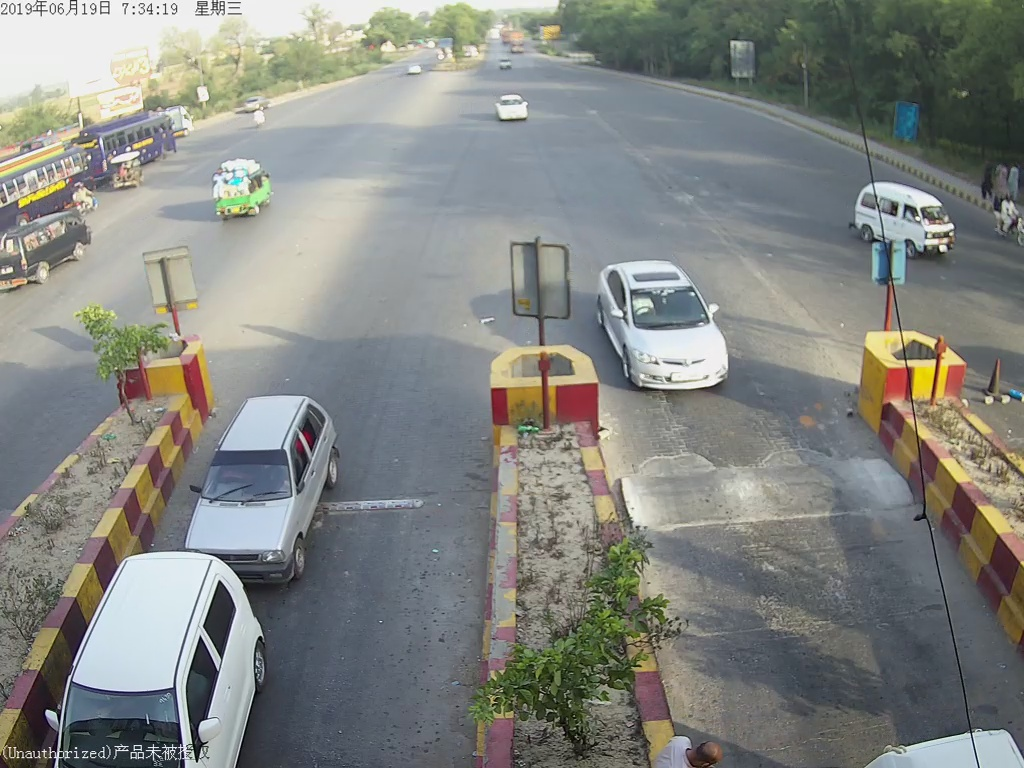Cat-1: (188, 374, 349, 590), (595, 249, 736, 390)
